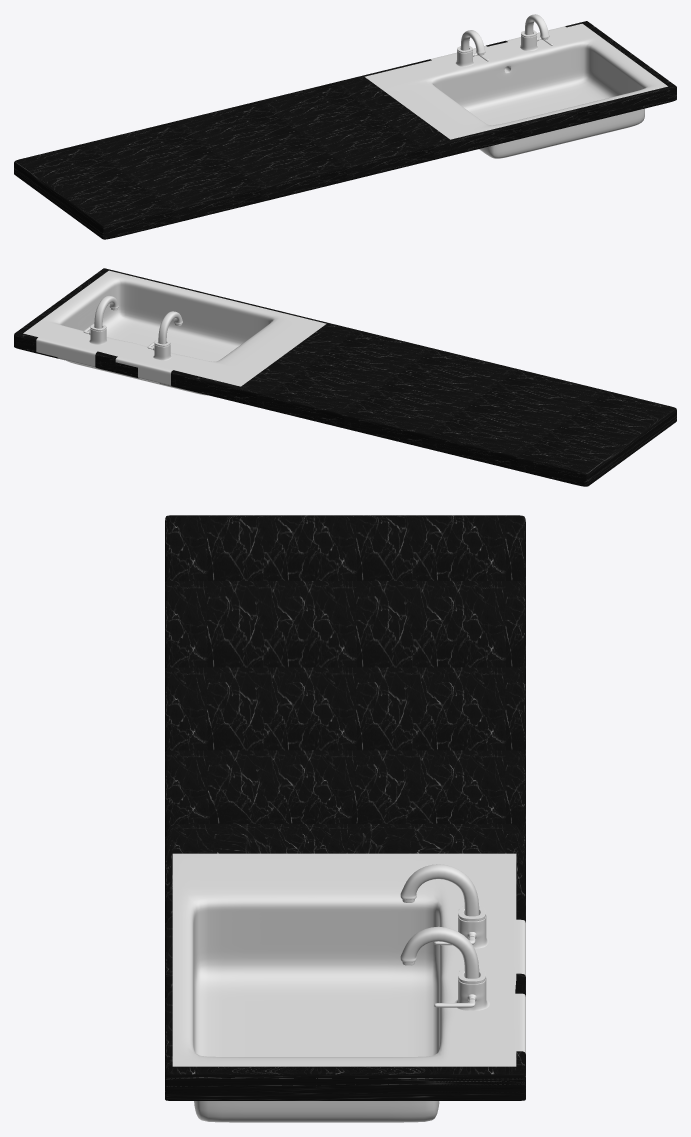
Rendered from sink.glb.
The picture shows the model from 3 angles, top to bottom: view 1: azimuth 30°, elevation 25°; view 2: azimuth 150°, elevation 25°; view 3: azimuth 270°, elevation 25°; orthographic projection. The views are drawn at different scales.
Visible parts, largest first — view 1: Cube.081; view 2: Cube.081; view 3: Cube.081.
Part boxes in pixels (x1,y1,x2,y2): Cube.081: (14,14,676,239); Cube.081: (14,268,676,486); Cube.081: (165,515,525,1122).
Bounding box in the file's own units: 2.86 × 0.3656 × 0.7787.
Materials: 2 (1 with a texture image).
